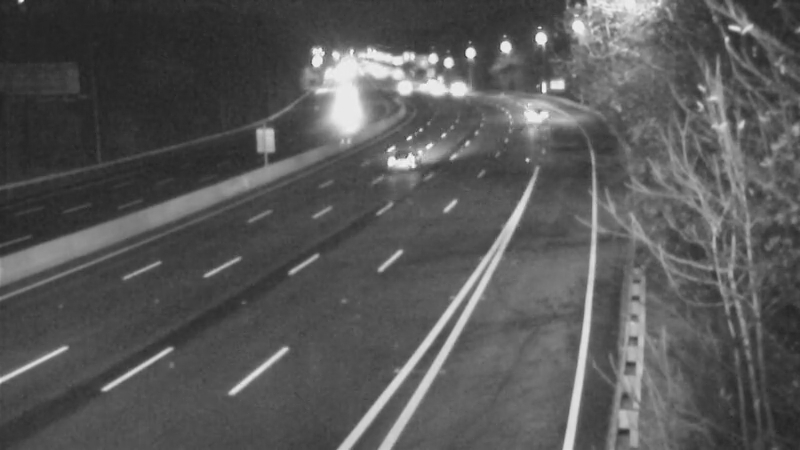vehicle: (363, 115, 443, 195), (440, 63, 490, 113), (381, 66, 431, 116), (404, 63, 454, 113), (504, 87, 554, 137)
